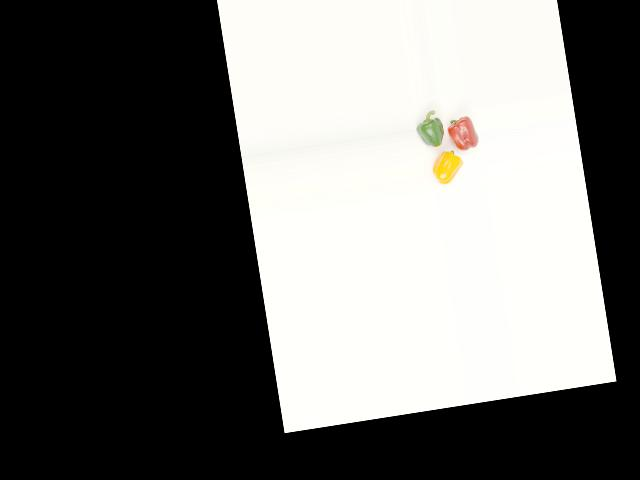bell_pepper: (413, 107, 447, 149)
